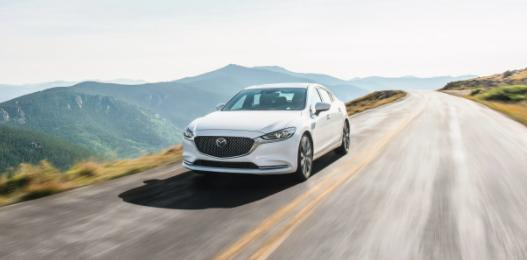car: (161, 65, 377, 204)
